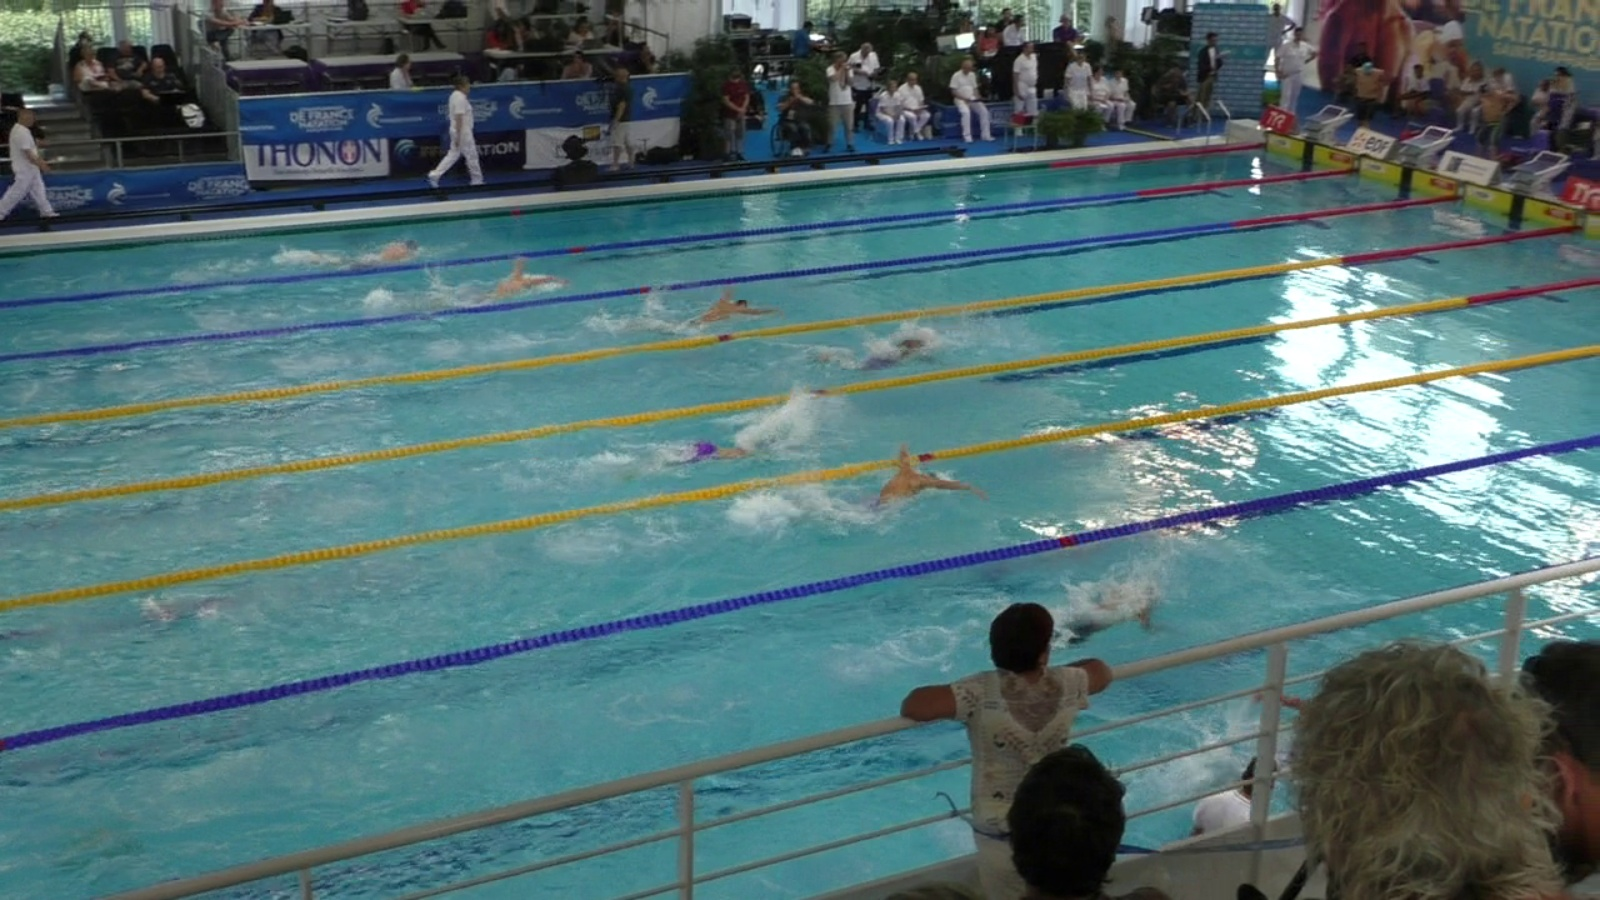swimmerw: (801, 452, 982, 538), (1041, 571, 1169, 651), (651, 284, 769, 340), (462, 253, 562, 313), (651, 427, 782, 469), (810, 335, 930, 375), (326, 236, 429, 273), (1253, 675, 1329, 715)
